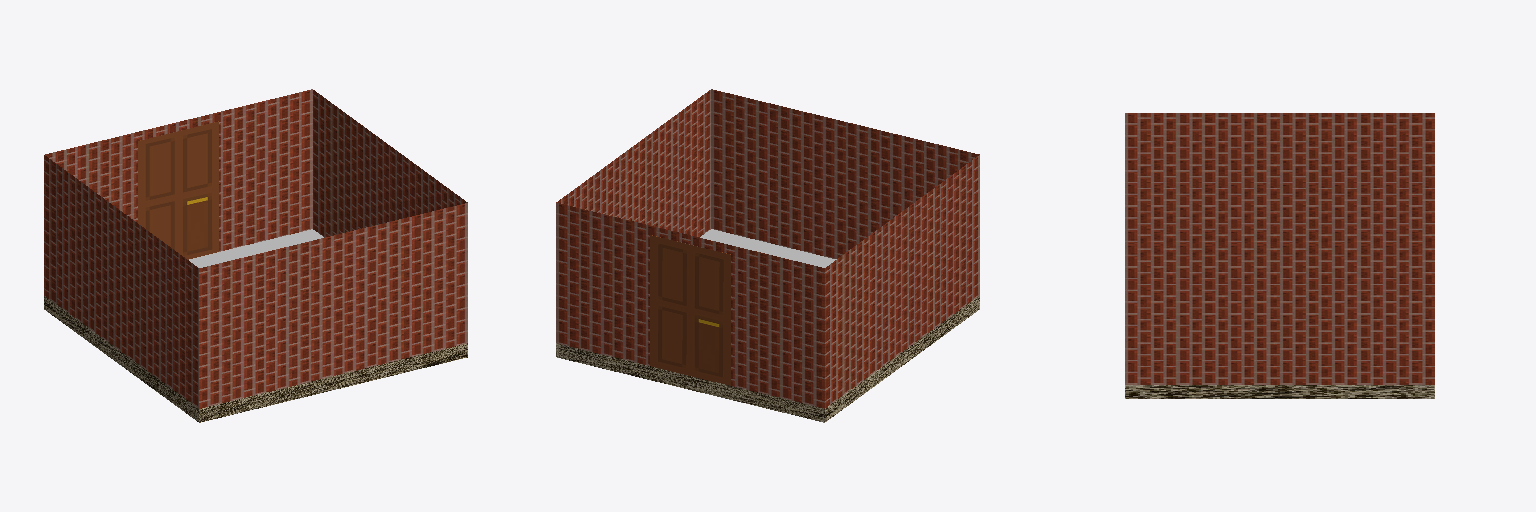
3 renders of one model, left to right at view 1: azimuth 30°, elevation 25°; view 2: azimuth 150°, elevation 25°; view 3: azimuth 270°, elevation 25°, orthographic.
Parts seen in each view (by area): view 1: Parede_Fundo_Plane.002, Parede_Direita_Plane, Parede_Frente_Plane.001, Parede_Esquerda_Plane.003, Porta_Cube.005, Chao_Cube, piso_Plane.004; view 2: Parede_Fundo_Plane.002, Parede_Frente_Plane.001, Parede_Direita_Plane, Parede_Esquerda_Plane.003, Porta_Cube.005, Chao_Cube, piso_Plane.004; view 3: Parede_Esquerda_Plane.003, Parede_Direita_Plane, Chao_Cube.
Boxes of the visible parts, x1,y1,x2,y2 form: Parede_Fundo_Plane.002: [199, 203, 467, 408]; Parede_Direita_Plane: [44, 155, 198, 407]; Parede_Frente_Plane.001: [45, 89, 312, 251]; Parede_Esquerda_Plane.003: [313, 90, 467, 237]; Porta_Cube.005: [138, 121, 218, 259]; Chao_Cube: [44, 296, 467, 422]; piso_Plane.004: [189, 229, 323, 267]; Parede_Fundo_Plane.002: [711, 89, 979, 258]; Parede_Frente_Plane.001: [556, 203, 824, 408]; Parede_Direita_Plane: [825, 155, 979, 407]; Parede_Esquerda_Plane.003: [556, 90, 710, 237]; Porta_Cube.005: [650, 235, 730, 385]; Chao_Cube: [556, 296, 979, 422]; piso_Plane.004: [700, 229, 836, 267]; Parede_Esquerda_Plane.003: [1125, 244, 1434, 384]; Parede_Direita_Plane: [1125, 113, 1434, 243]; Chao_Cube: [1125, 385, 1434, 398].
Size of the model in its own units: 20 by 11 by 20.02.
Materials: 4 (3 with a texture image).